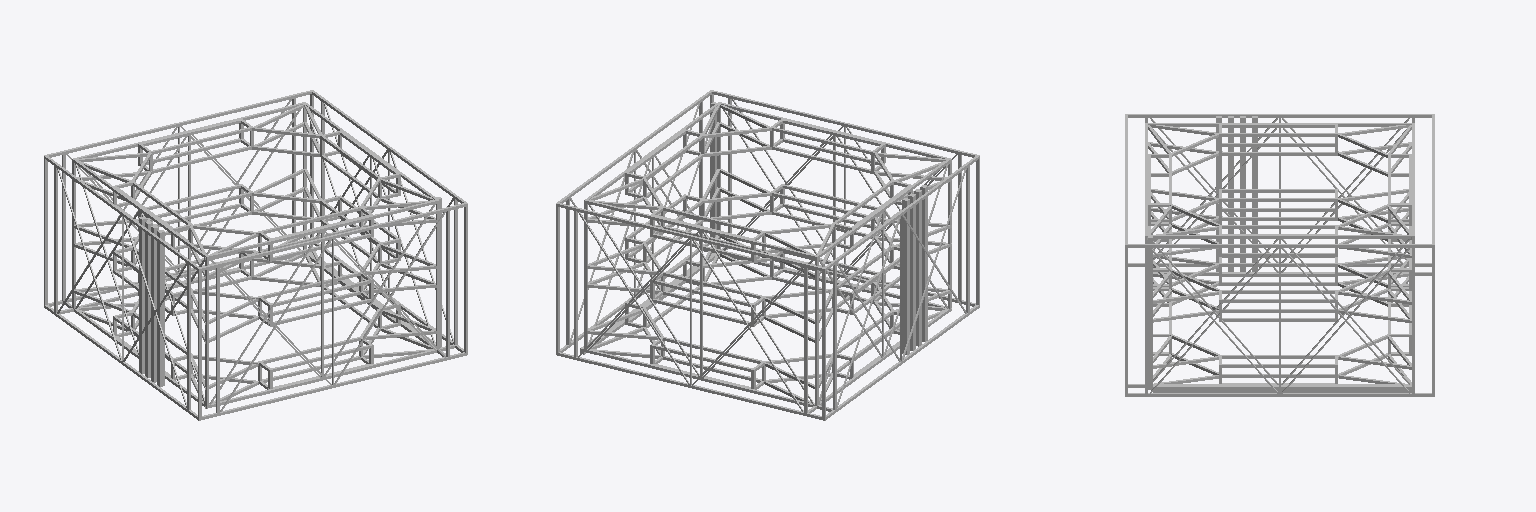
Rendered from rocket_scaffold_body.obj.
The picture shows the model from 3 angles: view 1: azimuth 30°, elevation 25°; view 2: azimuth 150°, elevation 25°; view 3: azimuth 270°, elevation 25°; orthographic projection.
Visible parts, largest first — view 1: cube; view 2: cube; view 3: cube.
Part boxes in pixels (left/top/right/bottom): cube: left=44, top=90, right=467, bottom=420; cube: left=556, top=90, right=979, bottom=420; cube: left=1125, top=114, right=1434, bottom=396.
Size of the model in its own units: 13 by 7.19 by 13.